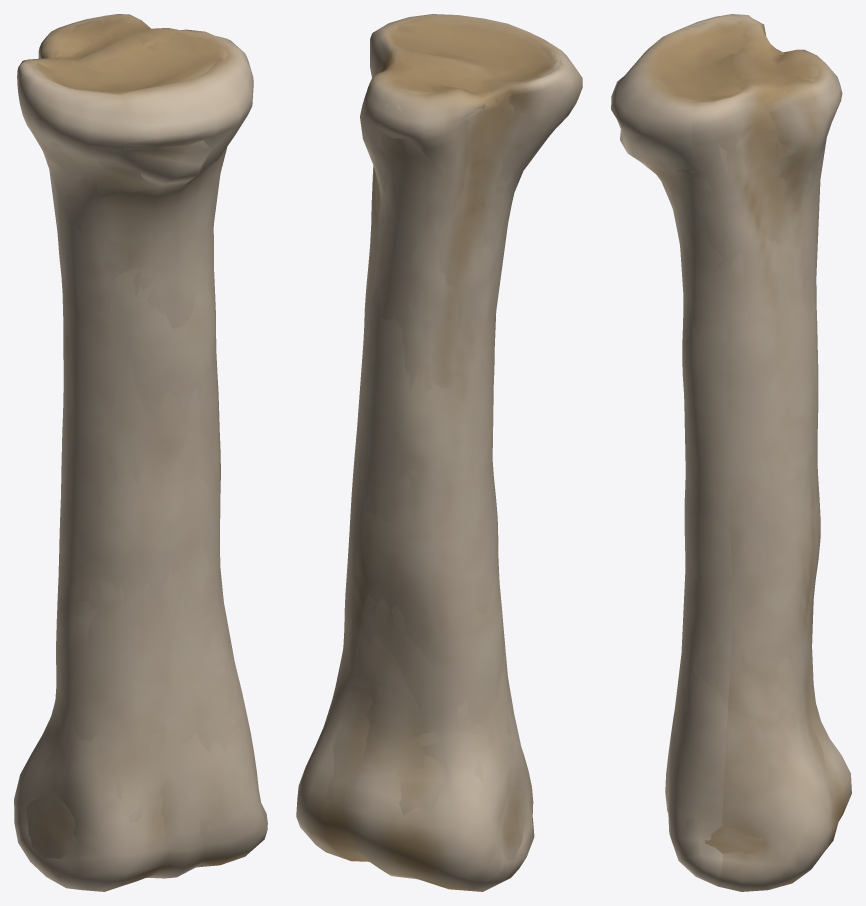
File: R metatarsi tertium.fbx
The picture shows the model from 3 angles, left to right: view 1: azimuth 30°, elevation 25°; view 2: azimuth 150°, elevation 25°; view 3: azimuth 270°, elevation 25°; orthographic projection. The views are drawn at different scales.
Parts seen in each view (by area): view 1: R metatarsi tertium, R metatarsi tertium low; view 2: R metatarsi tertium, R metatarsi tertium low; view 3: R metatarsi tertium, R metatarsi tertium low.
Boxes of the visible parts, x1,y1,x2,y2 form: R metatarsi tertium: (14,14,267,891); R metatarsi tertium low: (26,17,259,877); R metatarsi tertium: (296,14,582,891); R metatarsi tertium low: (323,18,559,861); R metatarsi tertium: (611,14,851,891); R metatarsi tertium low: (647,20,840,853).
Size of the model in its own units: 8.53 by 28.36 by 7.85.
Materials: 1 (1 with a texture image).
